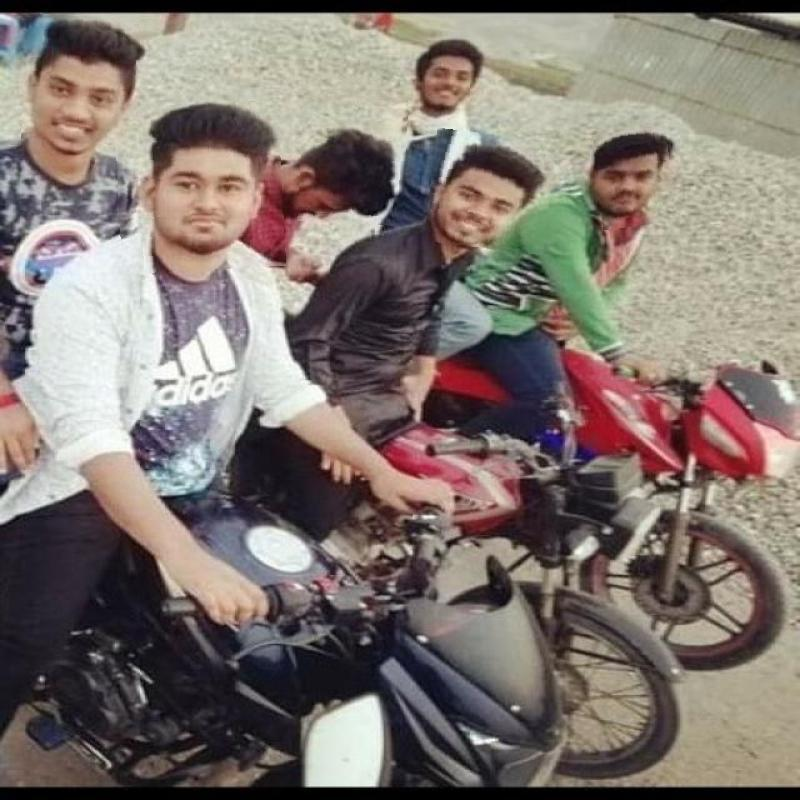nohelmet: (116, 102, 284, 272), (428, 132, 552, 252), (23, 15, 137, 144), (298, 95, 406, 225), (594, 128, 674, 228)
